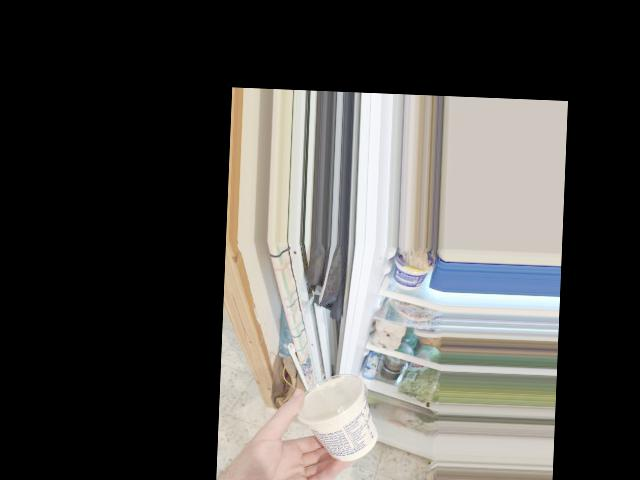cotage: (301, 369, 377, 454)
